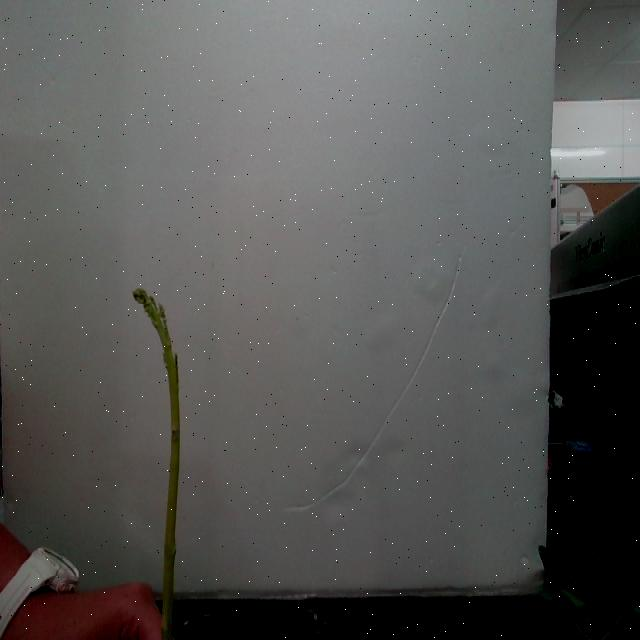aspargus: (133, 290, 181, 640)
